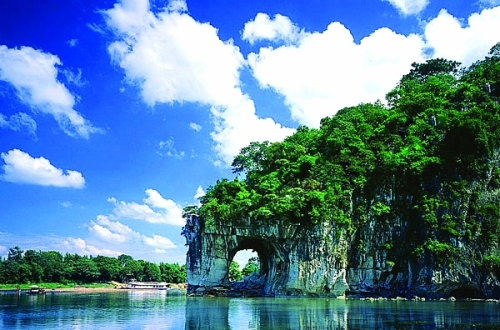xiangbishan: (180, 37, 500, 306)
